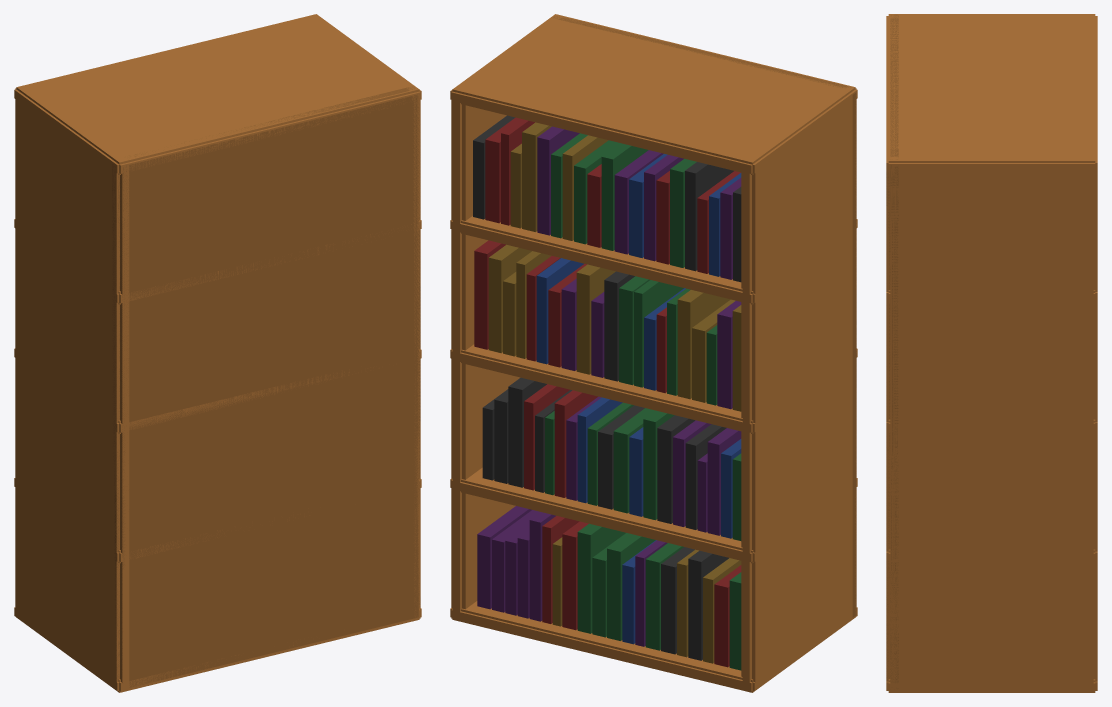
Rendered from lihzahrd_bookcase_v0.glb.
3 views of the same model, side by side, from view 1: azimuth 30°, elevation 25°; view 2: azimuth 150°, elevation 25°; view 3: azimuth 270°, elevation 25° (orthographic).
Parts seen in each view (by area): view 1: lihzahrd_bookcase_v0; view 2: lihzahrd_bookcase_v0; view 3: lihzahrd_bookcase_v0.
Part boxes in pixels (x1,y1,x2,y2): lihzahrd_bookcase_v0: [14, 14, 421, 692]; lihzahrd_bookcase_v0: [450, 14, 857, 692]; lihzahrd_bookcase_v0: [886, 14, 1097, 692].
Bounding box in the file's own units: 1.5 × 2.5 × 0.9.
